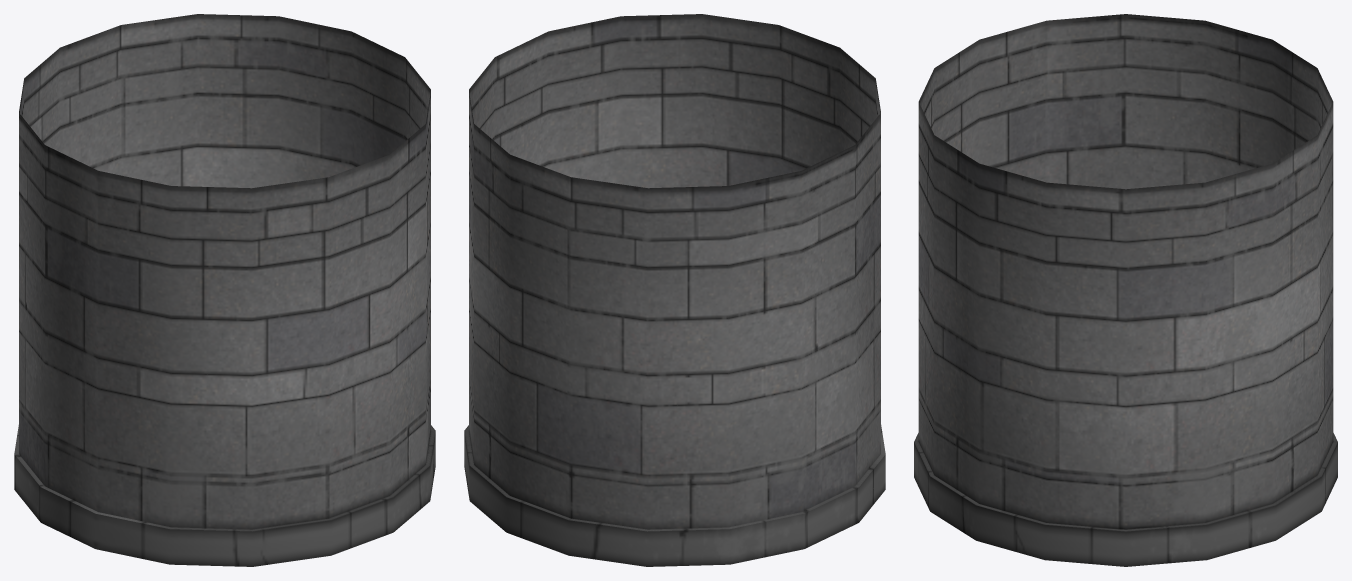
File: sb_obj_outdoor002_DemonsCastle01_CircleWall00.fbx
The picture shows the model from 3 angles, left to right: view 1: azimuth 30°, elevation 25°; view 2: azimuth 150°, elevation 25°; view 3: azimuth 270°, elevation 25°; orthographic projection.
Visible parts, largest first — view 1: sb_obj_outdoor002_DemonsCastle01_CircleWall00; view 2: sb_obj_outdoor002_DemonsCastle01_CircleWall00; view 3: sb_obj_outdoor002_DemonsCastle01_CircleWall00.
Boxes of the visible parts, x1,y1,x2,y2 form: sb_obj_outdoor002_DemonsCastle01_CircleWall00: [14, 14, 435, 566]; sb_obj_outdoor002_DemonsCastle01_CircleWall00: [464, 14, 885, 566]; sb_obj_outdoor002_DemonsCastle01_CircleWall00: [914, 14, 1337, 566].
Bounding box in the file's own units: 3.07 × 3 × 3.07.
